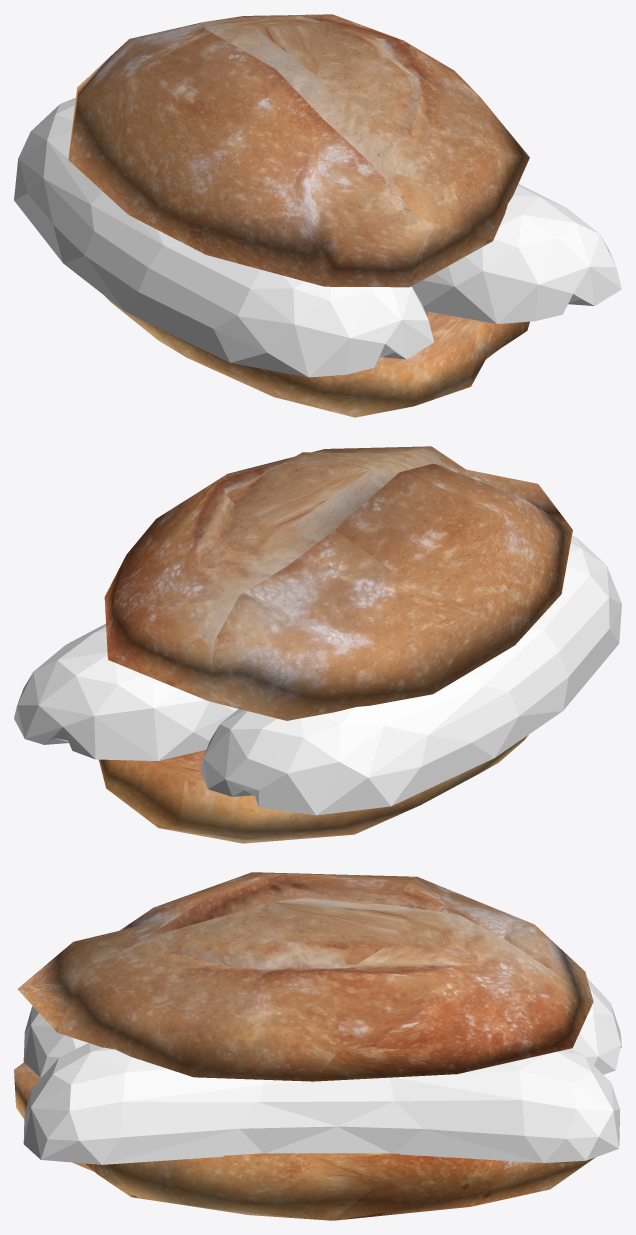
Rendered from CHORIPAN COLA ALDEANOS.glb.
The picture shows the model from 3 angles, top to bottom: view 1: azimuth 30°, elevation 25°; view 2: azimuth 150°, elevation 25°; view 3: azimuth 270°, elevation 25°; orthographic projection. The views are drawn at different scales.
Visible parts, largest first — view 1: CHORIPAN; view 2: CHORIPAN; view 3: CHORIPAN.
Boxes of the visible parts, x1,y1,x2,y2 form: CHORIPAN: (14, 14, 621, 417); CHORIPAN: (14, 446, 621, 843); CHORIPAN: (14, 872, 621, 1220).
Size of the model in its own units: 0.1739 by 0.1116 by 0.2406.
Materials: 2 (1 with a texture image).
